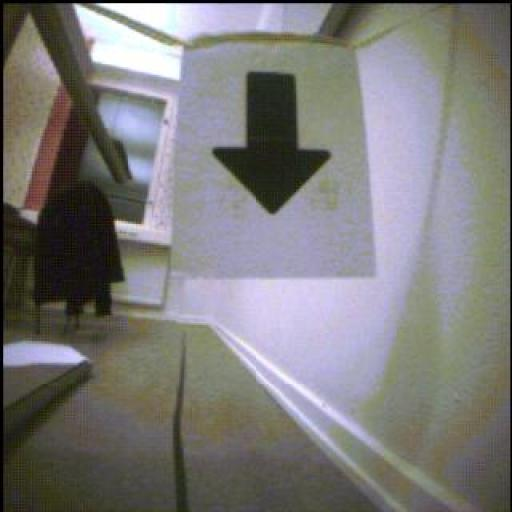arrow: (214, 73, 331, 215)
